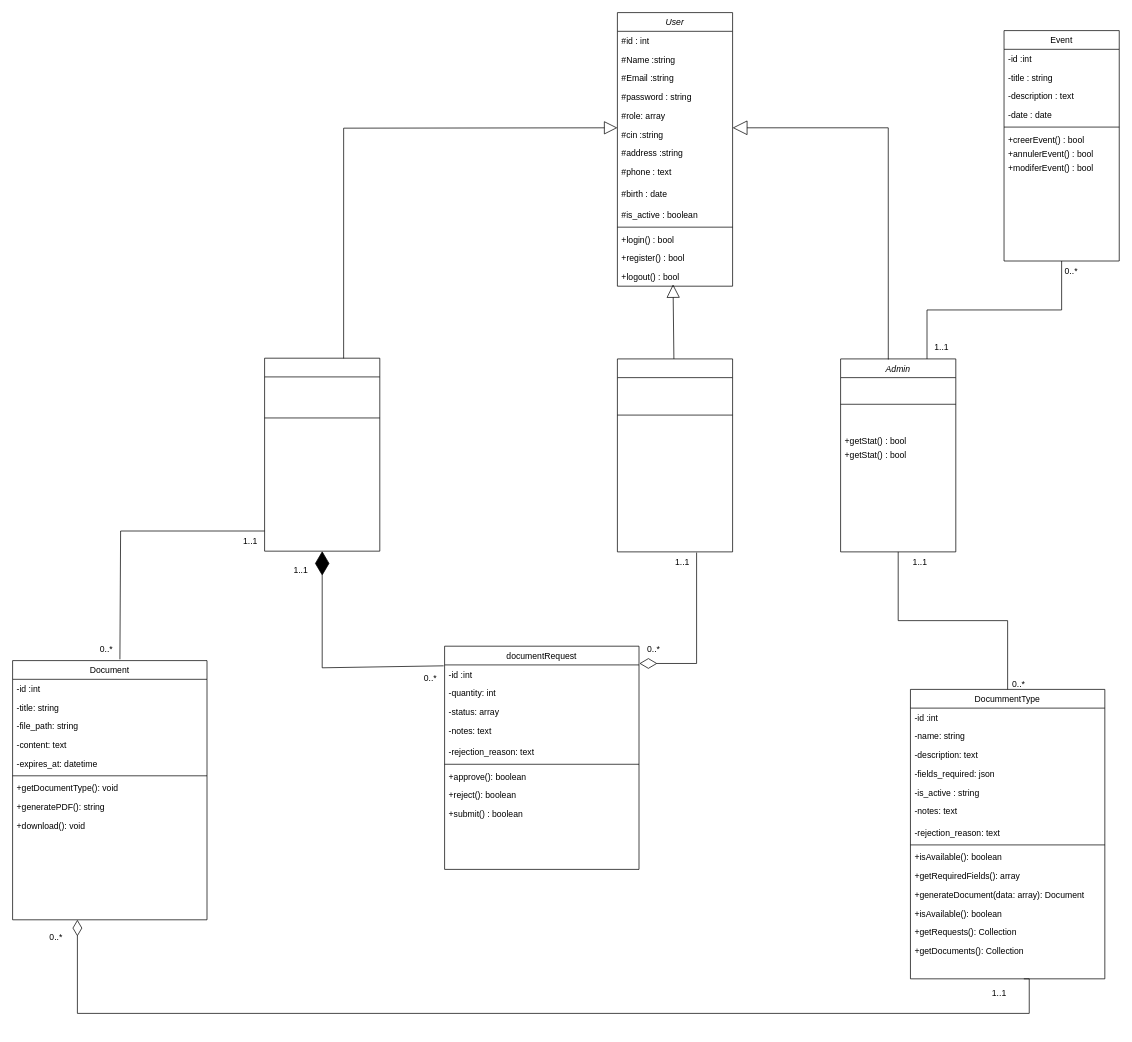
This 1132x1042 diagram has some shape labels left out. The shapes that lost their labels are listed below. From the top down, each one's centre as x and y in pixels, then its label:
(322,454): Citizen
(675,455): Employee
